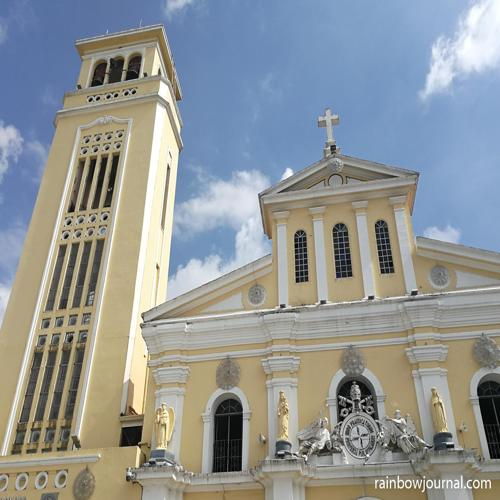Manaoag Church: (35, 21, 500, 500)
